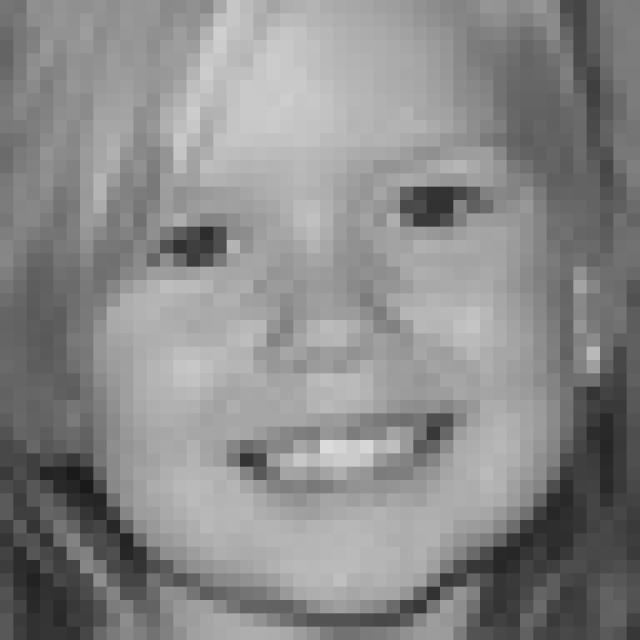happy: (112, 130, 523, 520)
